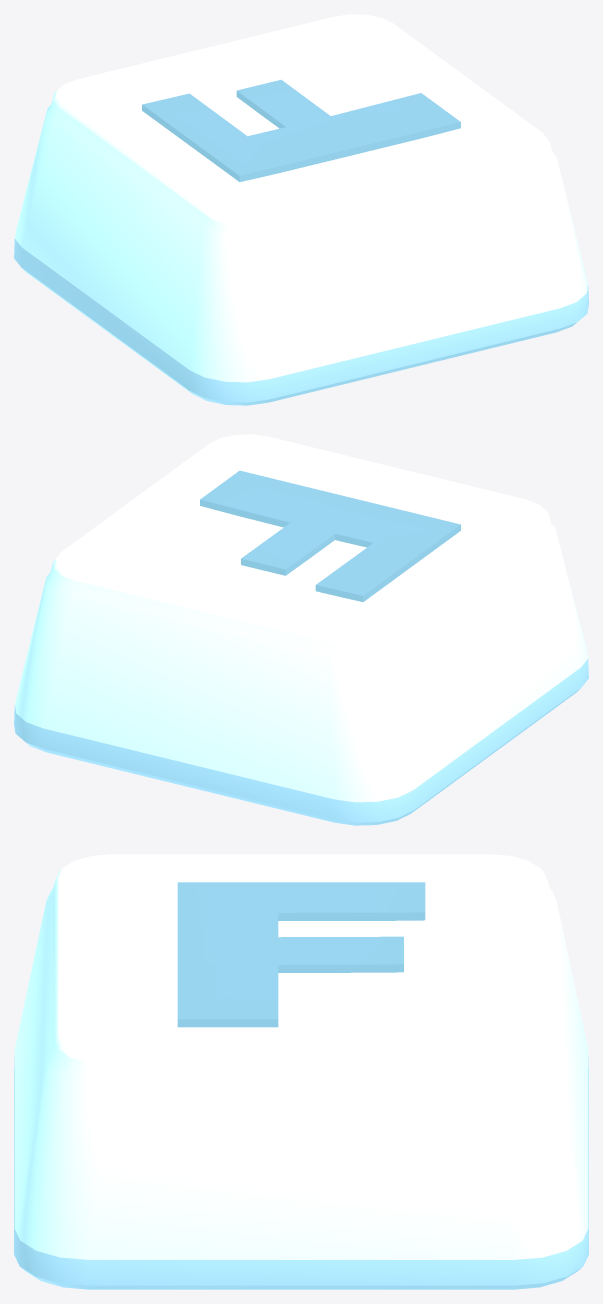
Rendered from props__Key_F.glb.
The picture shows the model from 3 angles, top to bottom: view 1: azimuth 30°, elevation 25°; view 2: azimuth 150°, elevation 25°; view 3: azimuth 270°, elevation 25°; orthographic projection. The views are drawn at different scales.
Visible parts, largest first — view 1: Key_F; view 2: Key_F; view 3: Key_F.
Part boxes in pixels (x1=…): Key_F: x1=14, y1=14, x2=588, y2=405; Key_F: x1=14, y1=434, x2=588, y2=825; Key_F: x1=14, y1=854, x2=588, y2=1289.
Size of the model in its own units: 3.9 by 1.65 by 3.9.
